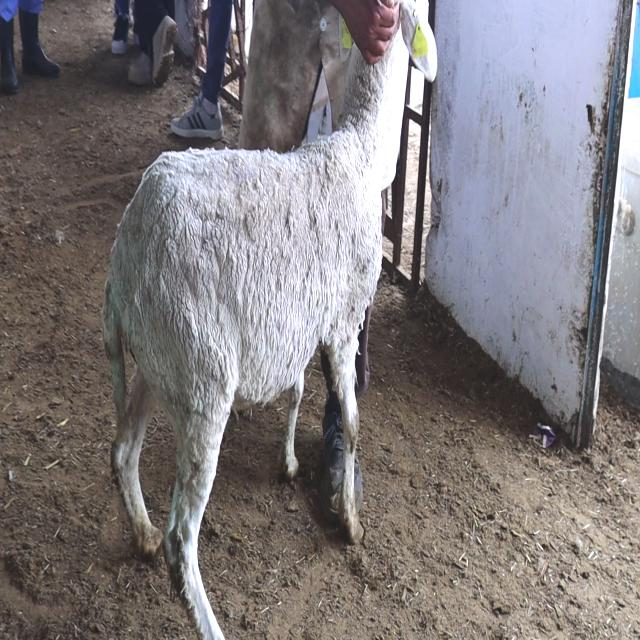Score_3: (103, 50, 390, 639)
